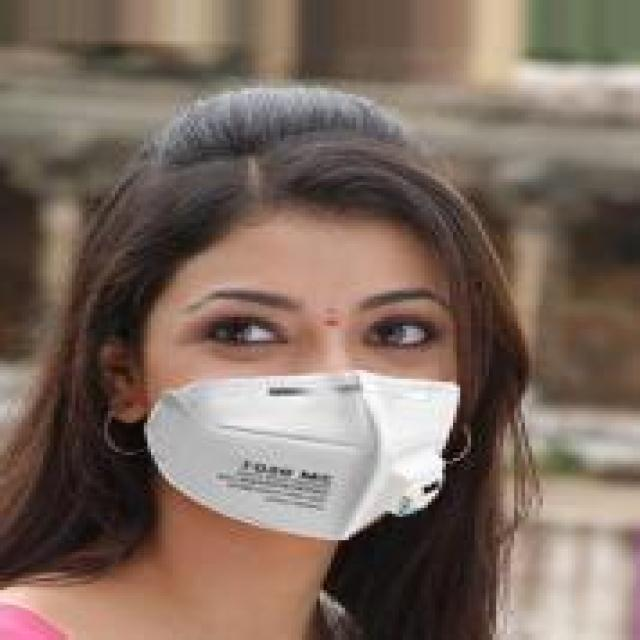mask: (72, 112, 536, 581)
